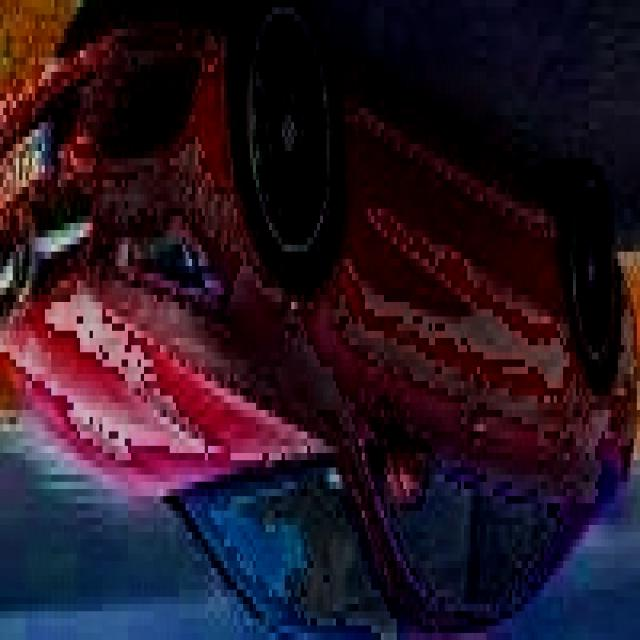maroon: (0, 29, 640, 633)
